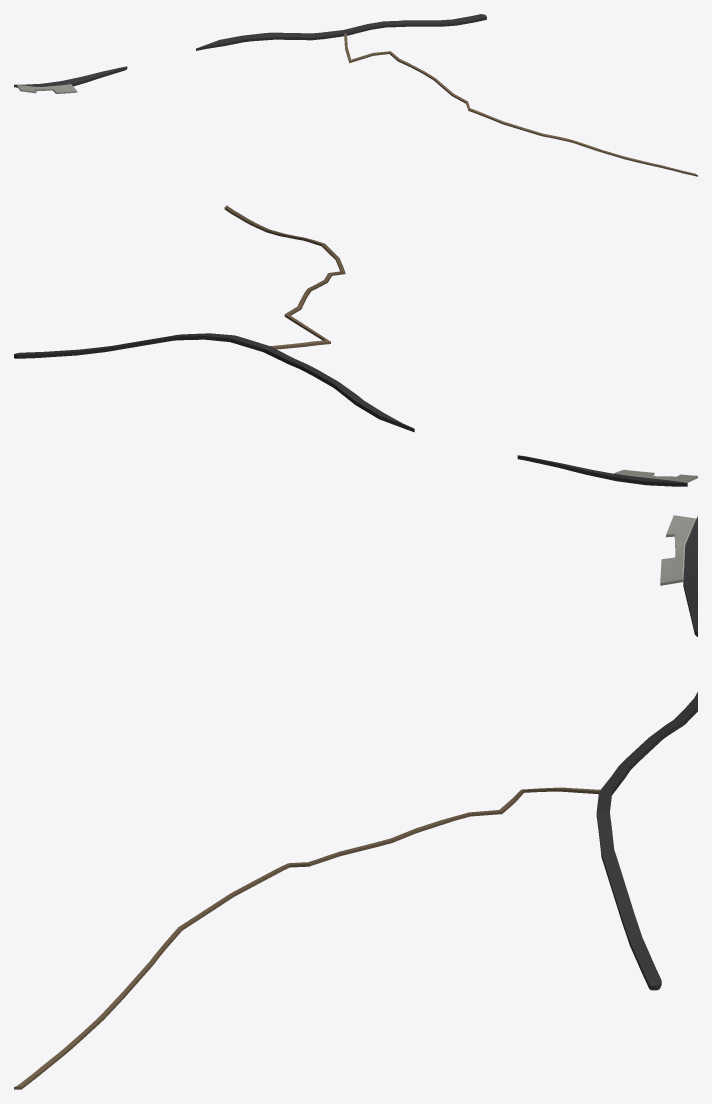
The picture shows the model from 3 angles, top to bottom: view 1: azimuth 30°, elevation 25°; view 2: azimuth 150°, elevation 25°; view 3: azimuth 270°, elevation 25°; orthographic projection. The views are drawn at different scales.
Bounding box in the file's own units: 249 × 35.98 × 164.
